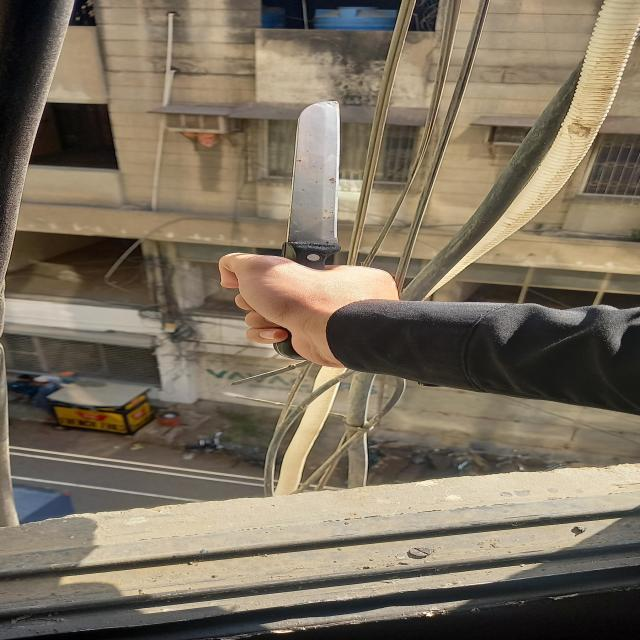faca: (276, 100, 340, 359)
